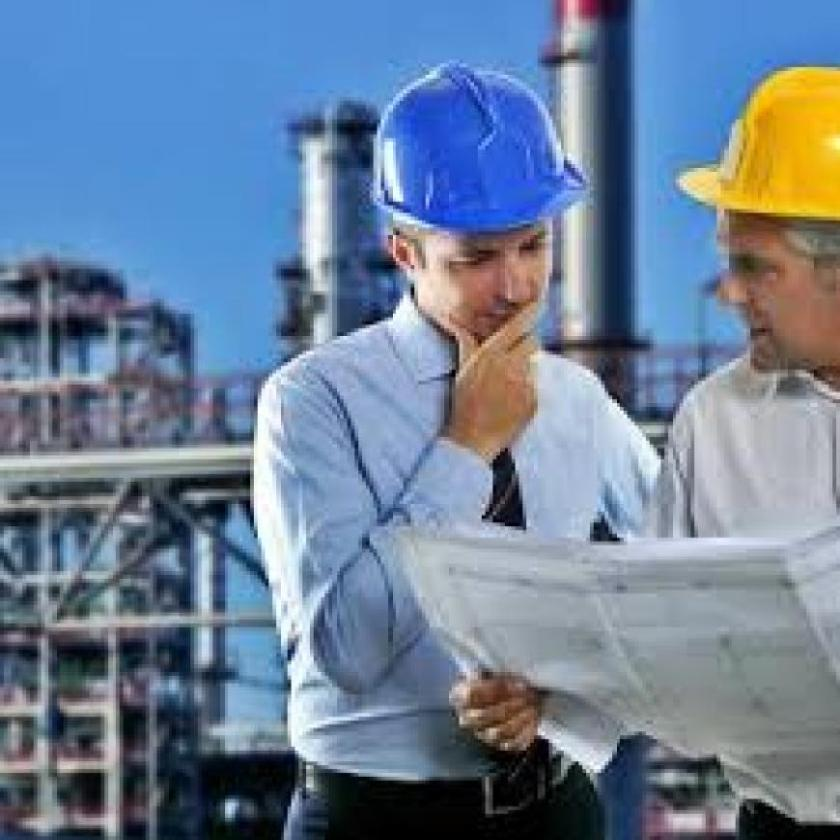Con_casco: (376, 63, 590, 375), (671, 63, 840, 385)
